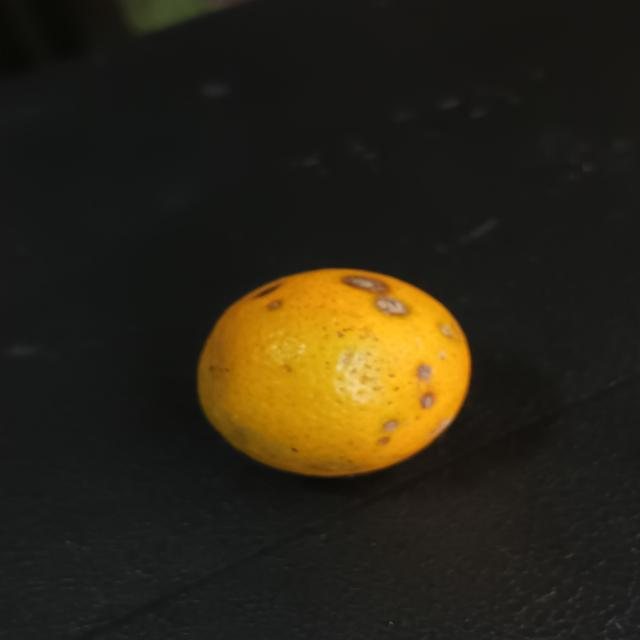black spot: (192, 261, 479, 480)
